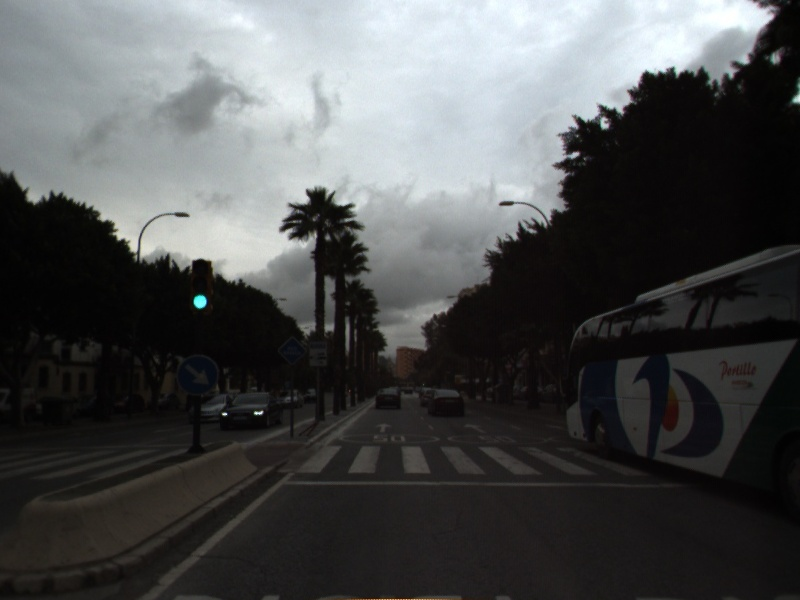STRAIGHT: (462, 421, 489, 436), (373, 421, 395, 435)
